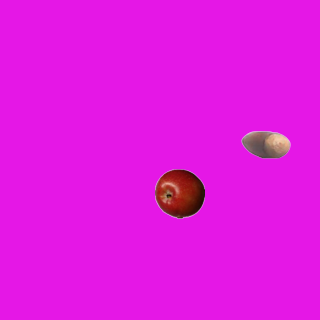Apple Braeburn: (154, 168, 204, 218)
Hazelnut: (240, 119, 290, 169)
